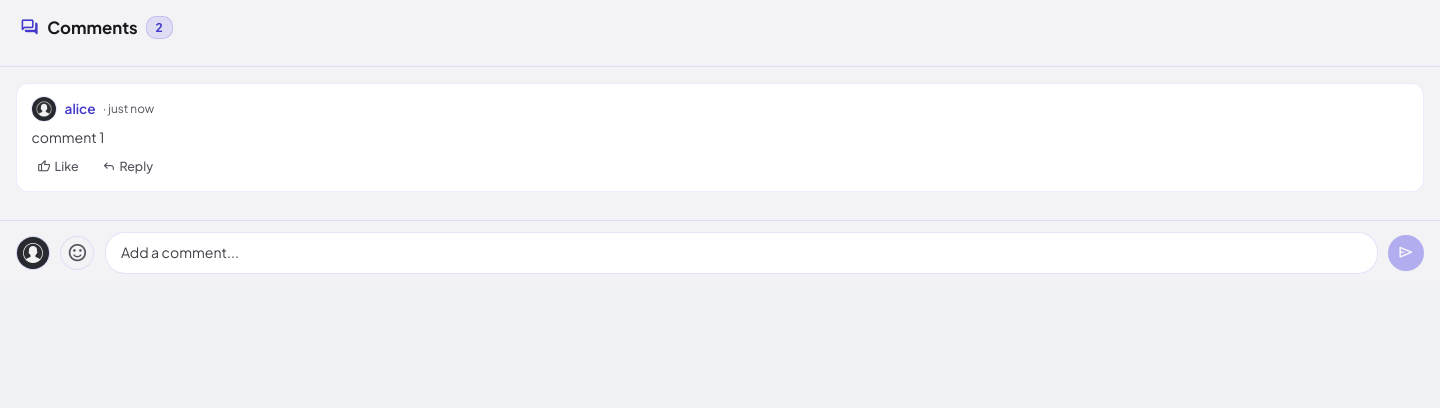
Scenario: PostCommentsPanel › pressing Enter in the reply box sends the reply (no mouse needed), once
The image size is (1440, 408).
Expected: the text "comment 1" is shown, [31,128,104,146]
Click the button "Reply": {"x": 127, "y": 167} [96,155,159,178]
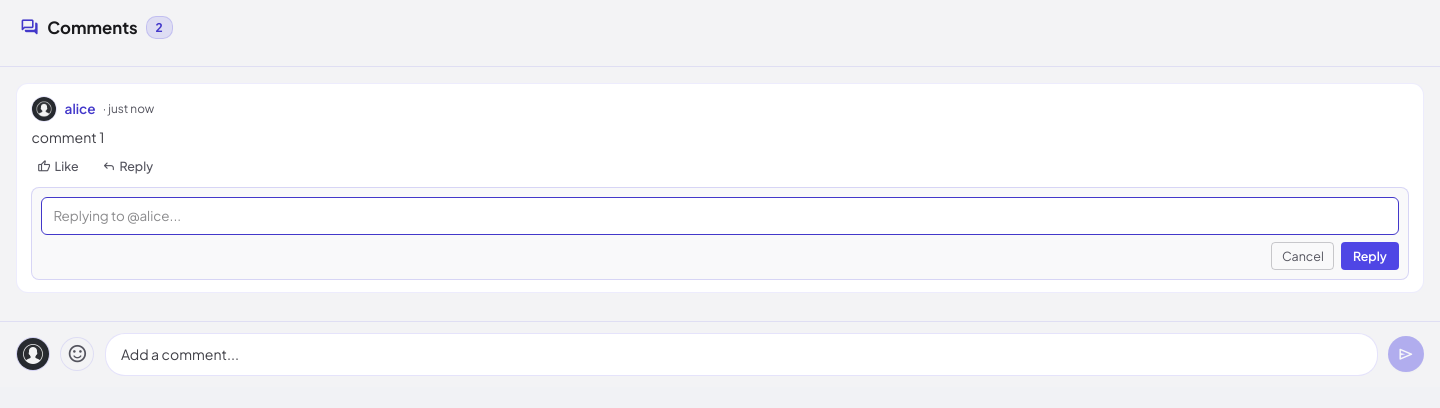
In the field with placeholder "Replying to @alice...": {"x": 720, "y": 216} [41,197,1399,235], type "via enter"
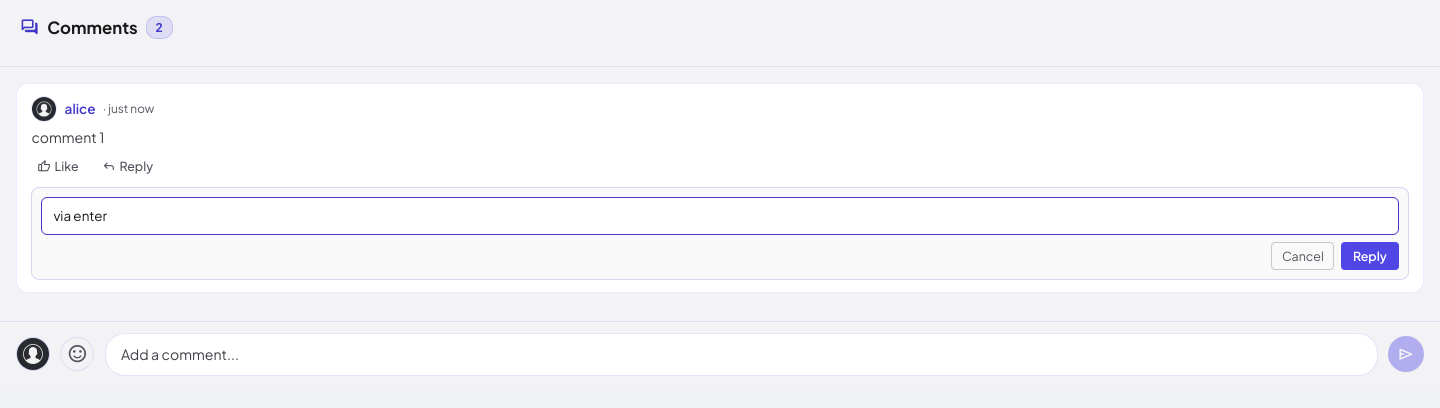
Press Enter in the field with placeholder "Replying to @alice...", box [41,197,1399,235]
Press Enter in the field with placeholder "Replying to @alice...", box [41,197,1399,235]
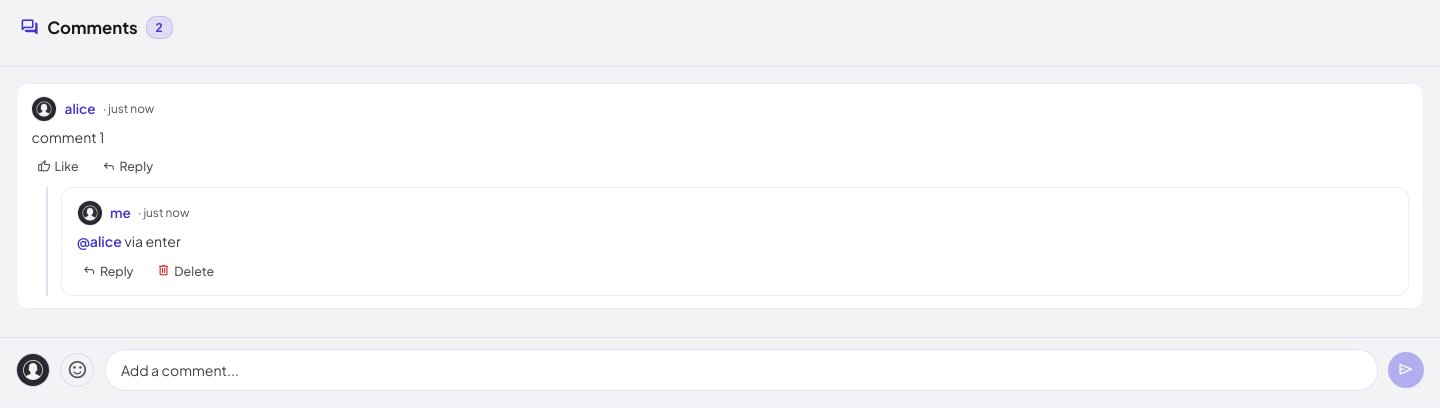
Now the text "via enter" is shown, box [124,232,181,250]
